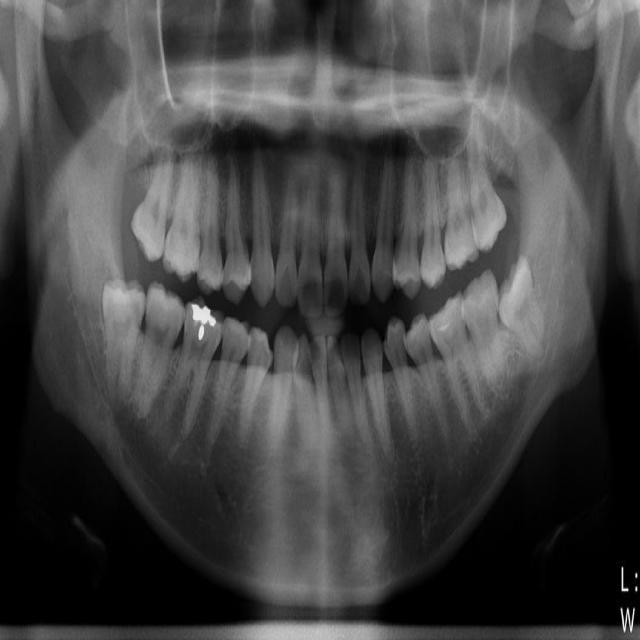52: (178, 297, 227, 362)
73: (593, 566, 597, 586)
BioHorizons Implant: (460, 112, 509, 252)
Biomet 3i Implant: (492, 256, 545, 365)
Blue Sky Bio Implant: (458, 273, 506, 393)
Caries: (128, 151, 176, 262)
Implant: (128, 280, 189, 421)
Keystone Dental Implant: (101, 277, 147, 390)
